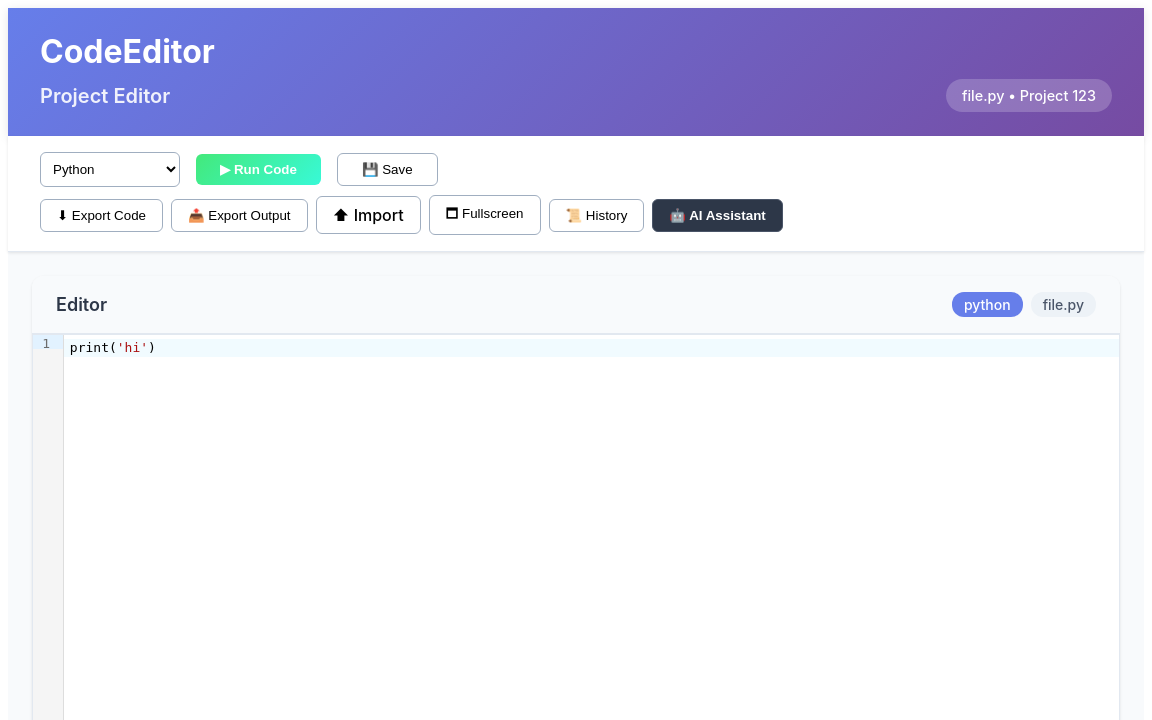
Scenario: Editor Component › handles run button click and updates output
Click the button "▶ Run Code": (258, 170) top-left (196, 154), bottom-right (321, 185)
(page scrolled)
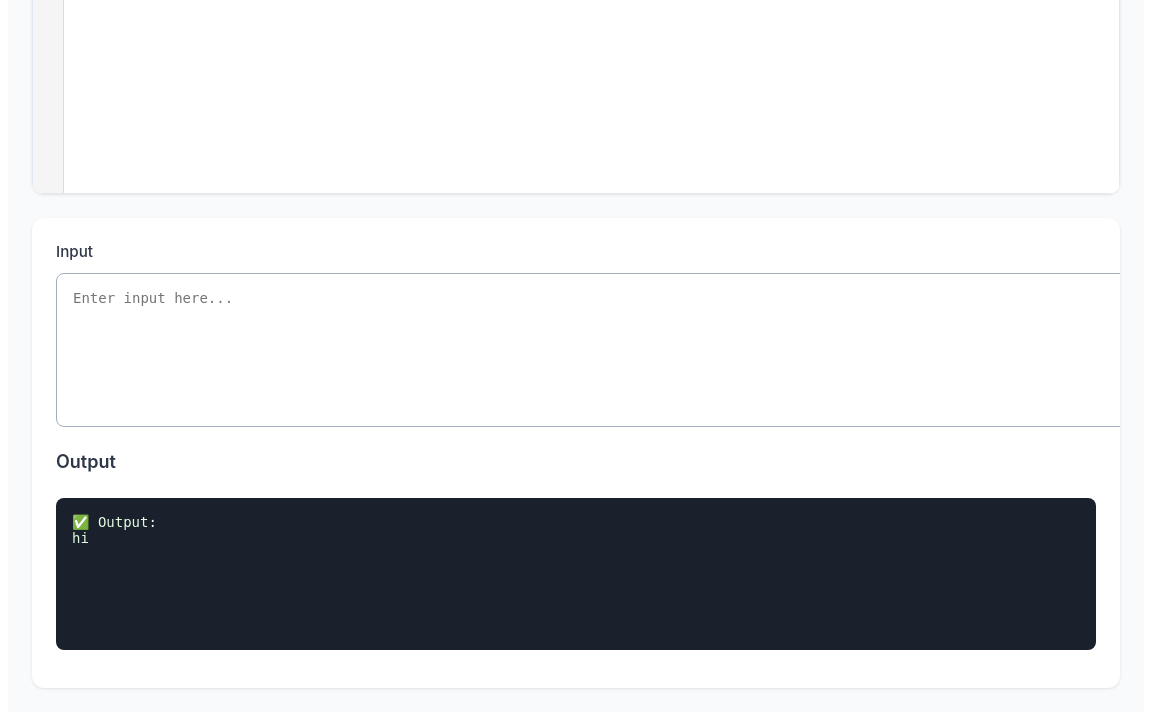
Result: the text "✅ Output: hi" is shown at top-left (56, 498), bottom-right (1096, 650)
